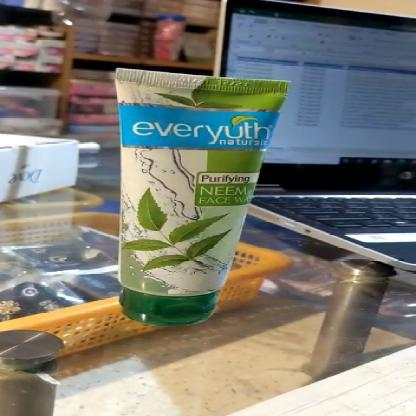EY NATURALS NEEM FACE WASH AY 50G: (113, 69, 286, 324)
